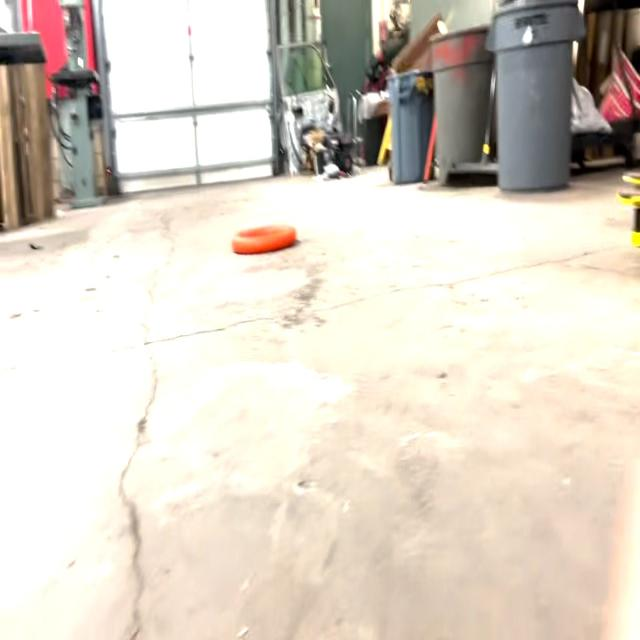note: (231, 214, 297, 256)
